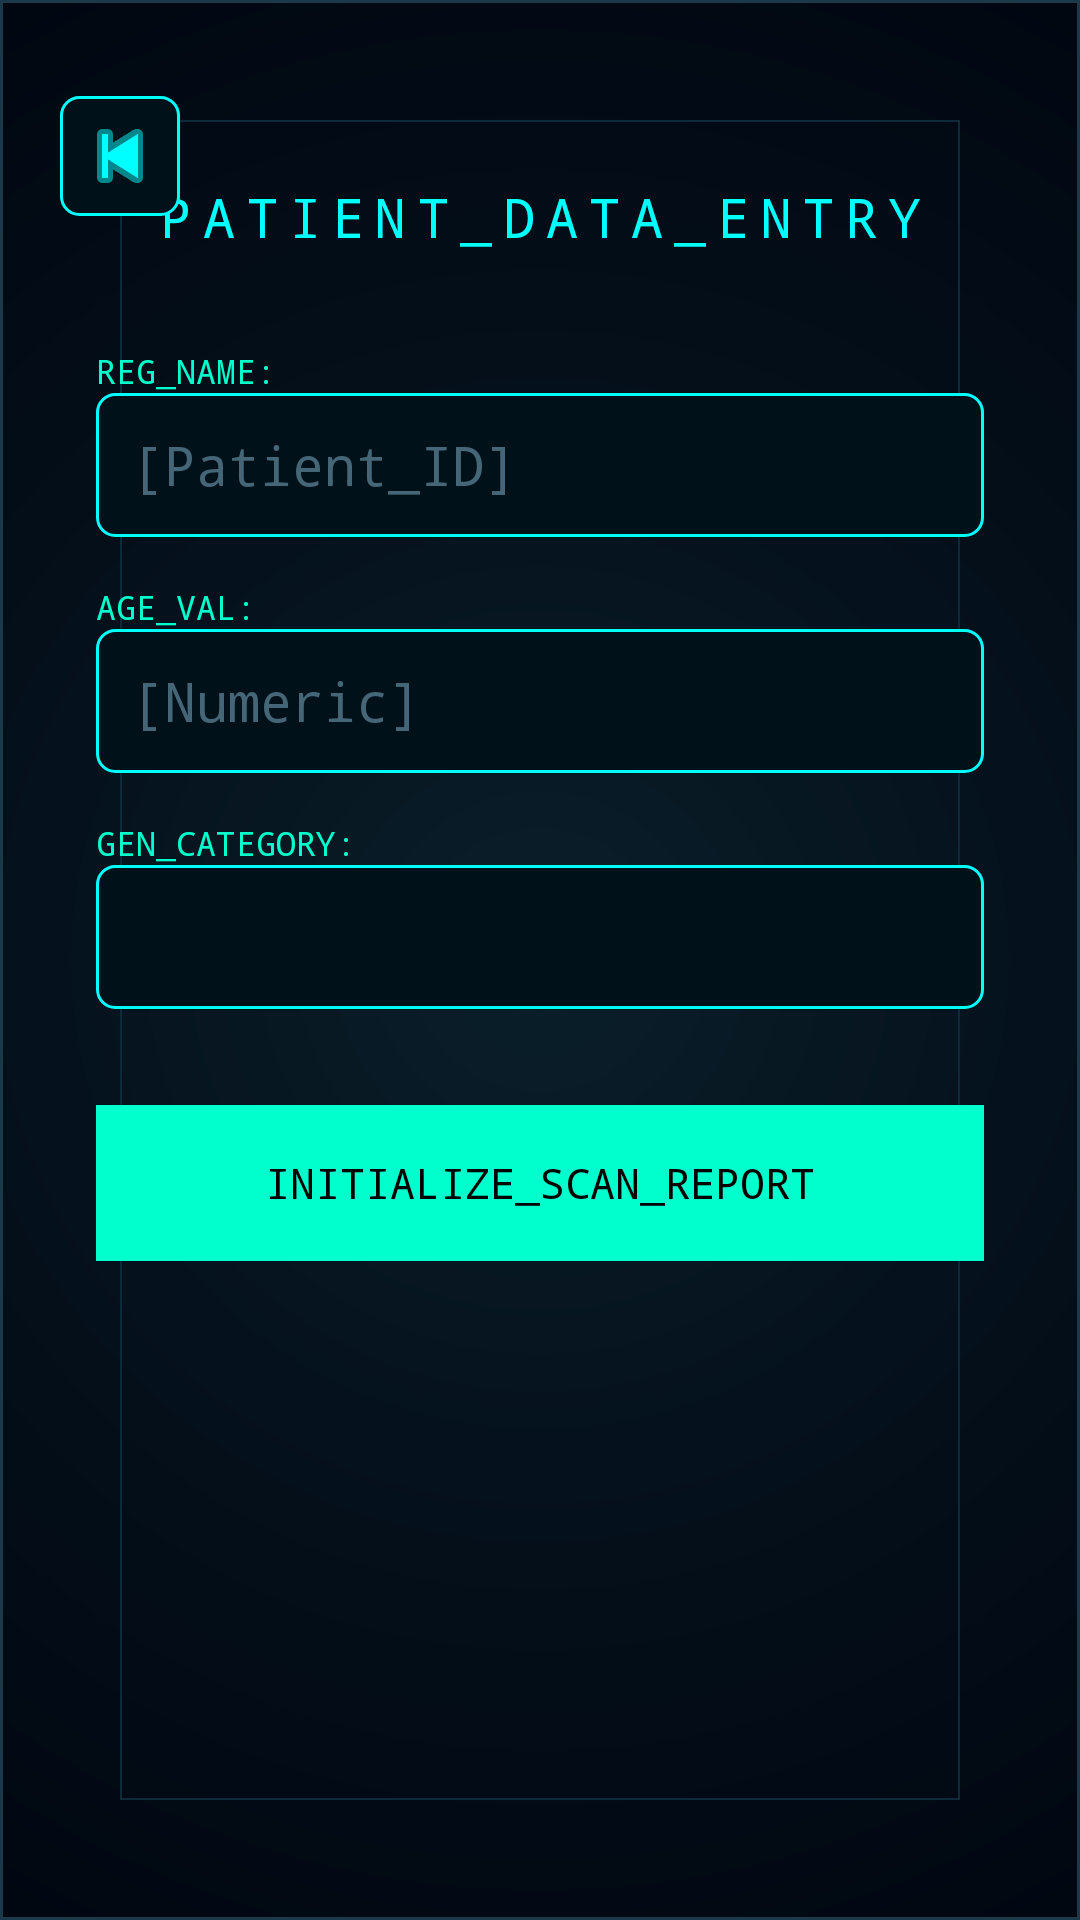

Locate icon controls on the screen. Image size 1080px x 1920px, boxes as detection(x1, y1, x2, y2).
previous: detection(97, 129, 143, 183)
